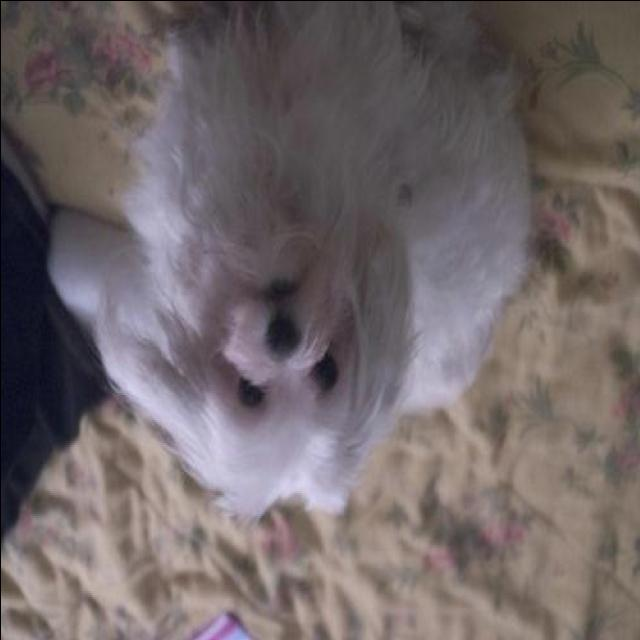maltese_dog: (92, 2, 538, 521)
